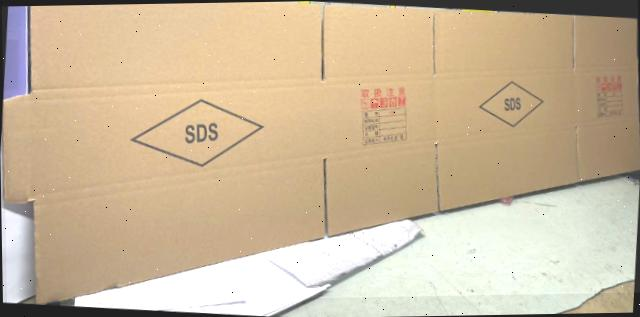box: (3, 1, 640, 302)
